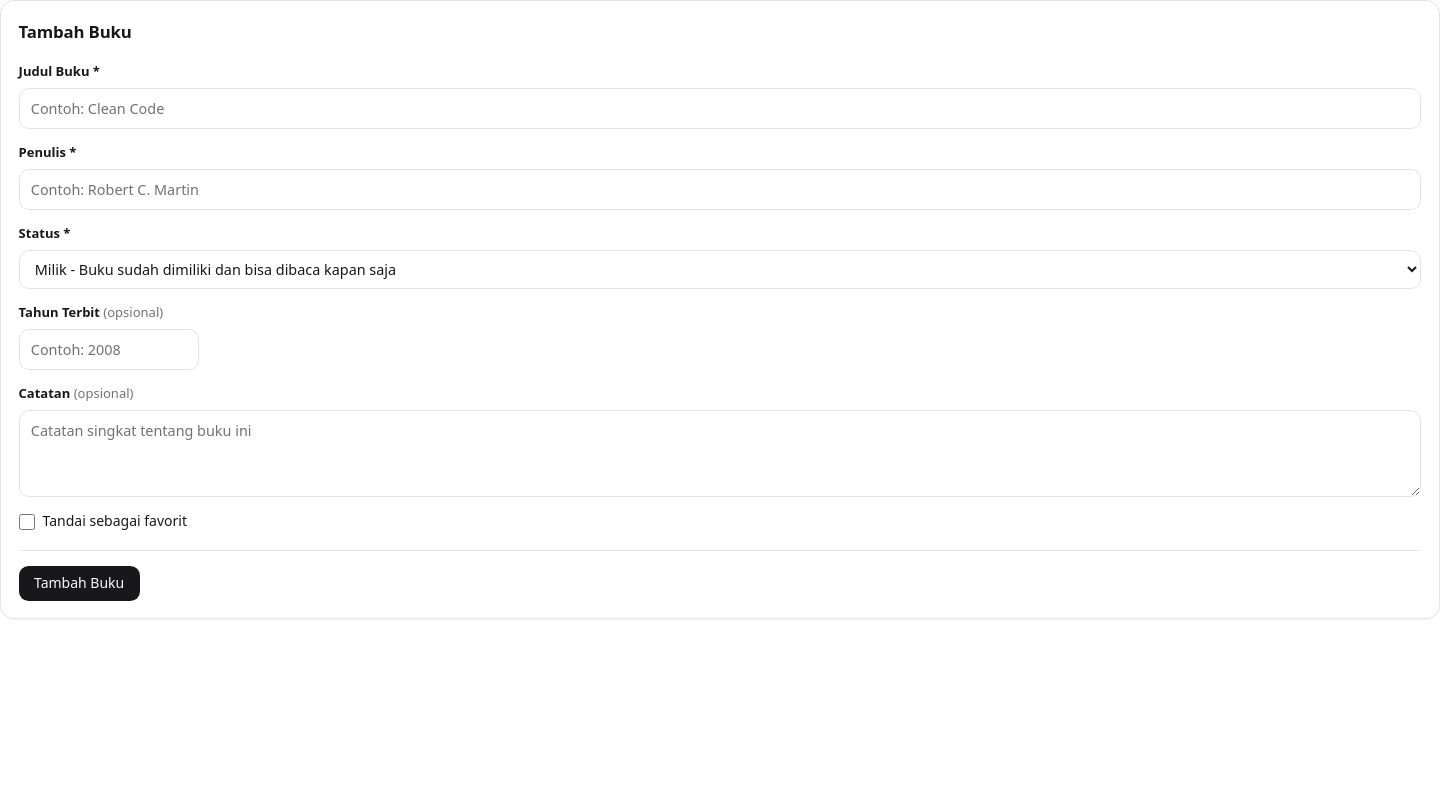
Test: BookForm › memvalidasi judul yang terlalu pendek setelah dikosongkan
Type "a" into the field labelled "Judul Buku *". click: [720, 108]
box: left=19, top=88, right=1421, bottom=129
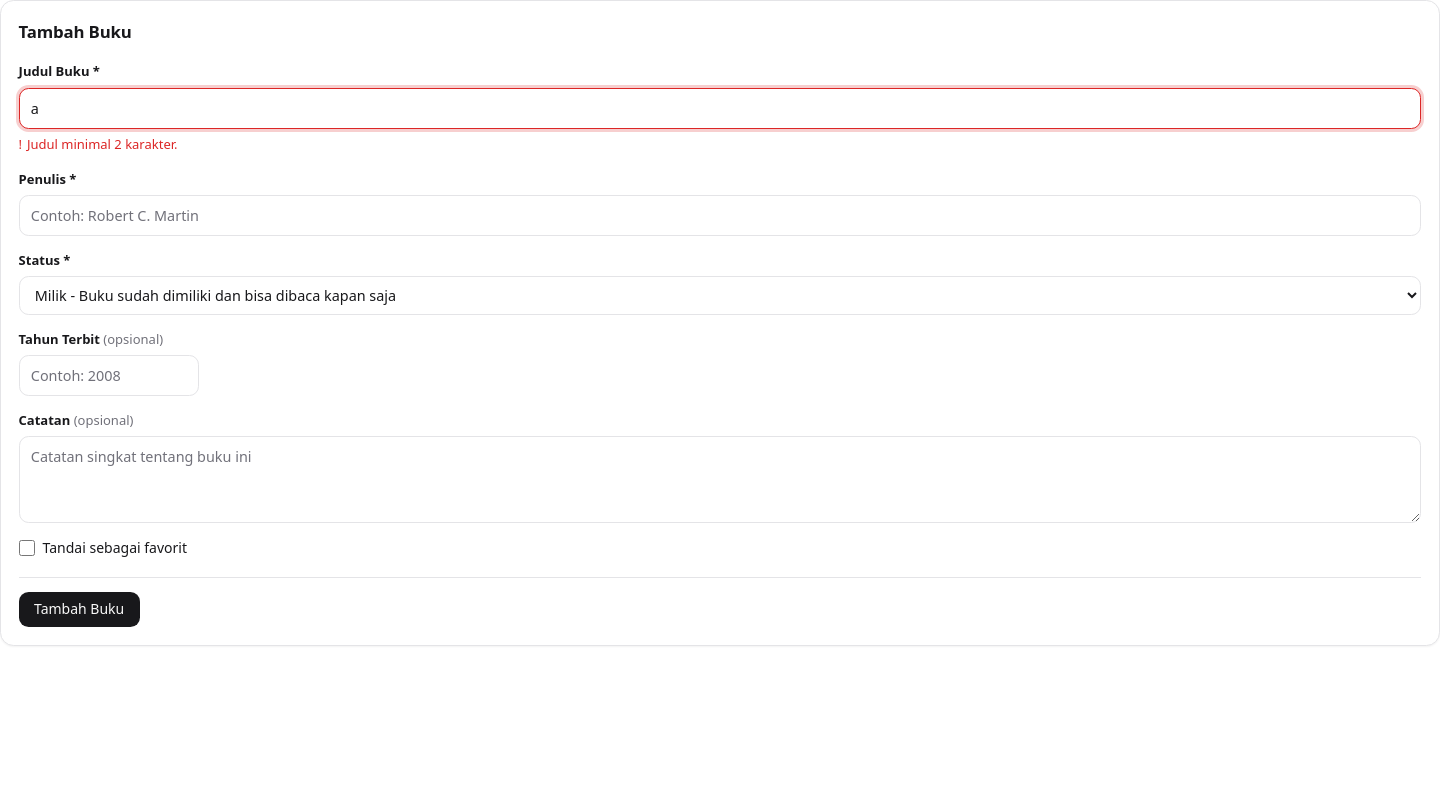
Clear the field labelled "Judul Buku *". click: [720, 108]
box: left=19, top=88, right=1421, bottom=129
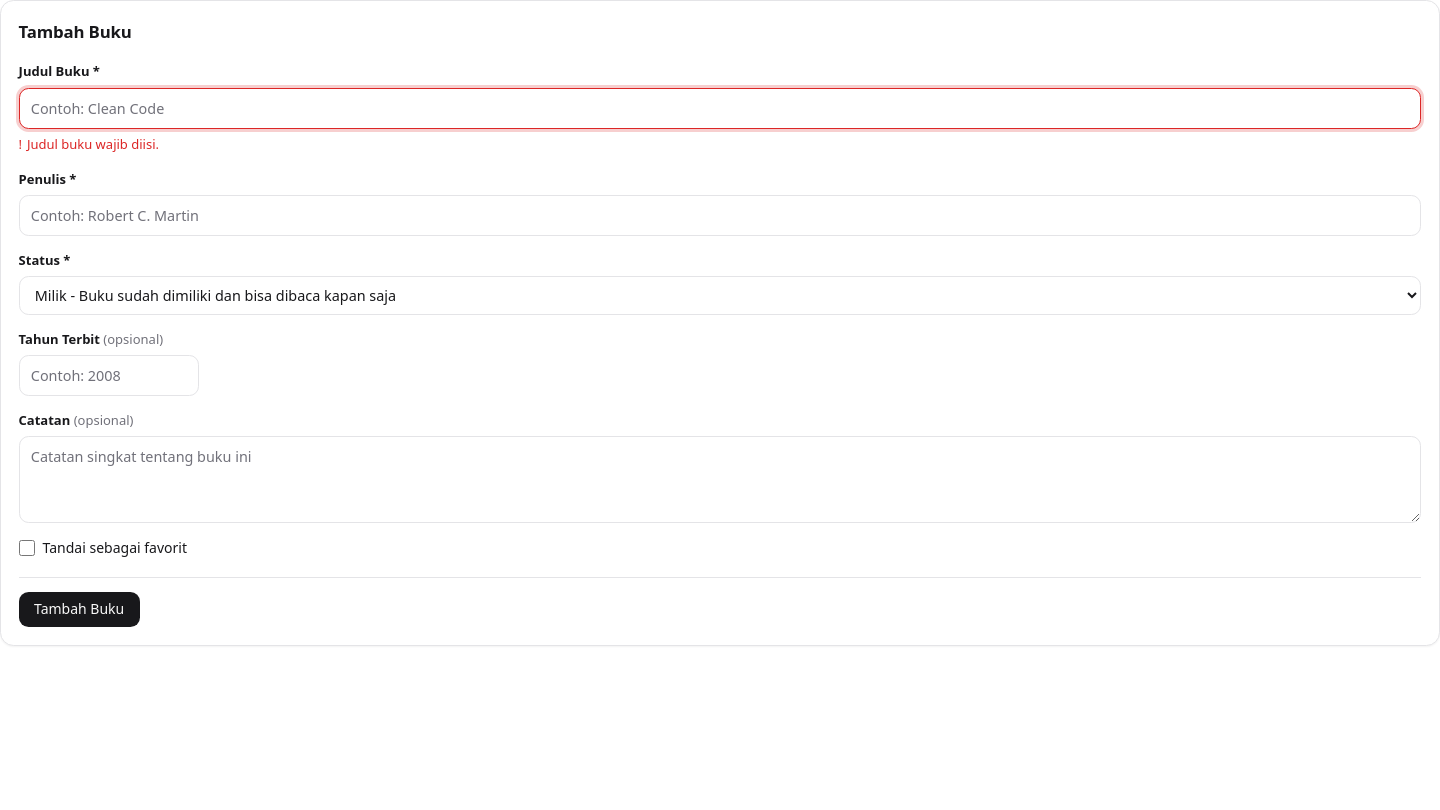
expect the text "! Judul buku wajib diisi." is shown: met, box left=19, top=136, right=159, bottom=154
